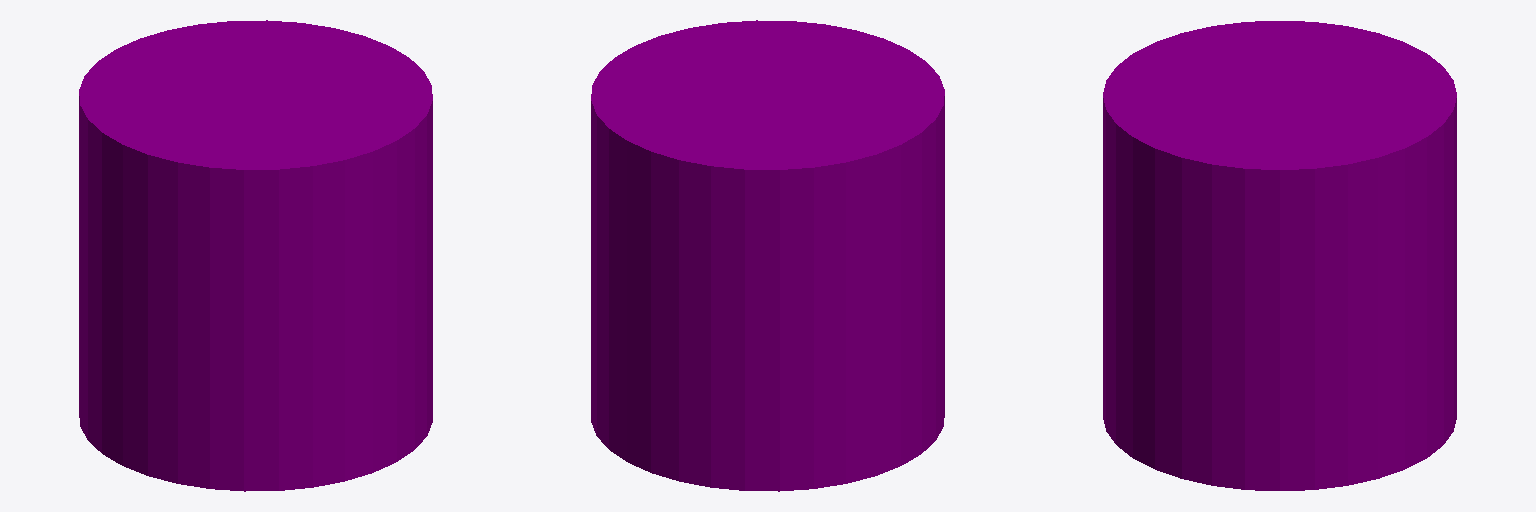
The robot description file, URDF, robot "cylinder":
<?xml version="1.0" ?>
<robot name="cylinder">
  <material name="color">
    <color rgba=".58 0 0.58 1"/>
  </material>

  <link name="base_link">
    <contact>
      <lateral_friction value="1.0"/>
      <rolling_friction value="0.001"/>
      <spinning_friction value="0.001"/>
      <inertia_scaling value="1.0"/>
    </contact>
    <inertial>
      <origin rpy="0 0 0" xyz="0 0 -0.07"/>
       <mass value="1.0"/>
       <inertia ixx="1" ixy="0" ixz="0" iyy="1" iyz="0" izz="1"/>
    </inertial>
    <visual>
      <origin rpy="0 0 0" xyz="0 0 0"/>
      <geometry>
        <cylinder length="0.07" radius="0.035"/>
      </geometry>
      <material name="color"/>
    </visual>
    <collision>
      <origin rpy="0 0 0" xyz="0 0 0"/>
      <geometry>
        <cylinder length="0.07" radius="0.035"/>
      </geometry>
    </collision>
  </link>
</robot>

--- What the picture shows (computed from the rendered views, not written in the file) ---
Views: 3 orthographic renders of the robot side by side, from view 1: azimuth 30°, elevation 25°; view 2: azimuth 150°, elevation 25°; view 3: azimuth 270°, elevation 25°.
Robot: cylinder — 1 links, 0 joints (none); root link base_link; default pose: every joint at zero.
Links seen in each view (by area): view 1: base_link; view 2: base_link; view 3: base_link.
Boxes of the visible links, x1=… form: base_link: x1=79, y1=20, x2=432, y2=491; base_link: x1=591, y1=20, x2=944, y2=491; base_link: x1=1103, y1=21, x2=1456, y2=490.
Bounding box of the posed robot: 0.07 × 0.07 × 0.07 m (x, y, z).
Geometry: primitives only (box / cylinder / sphere), no mesh files.